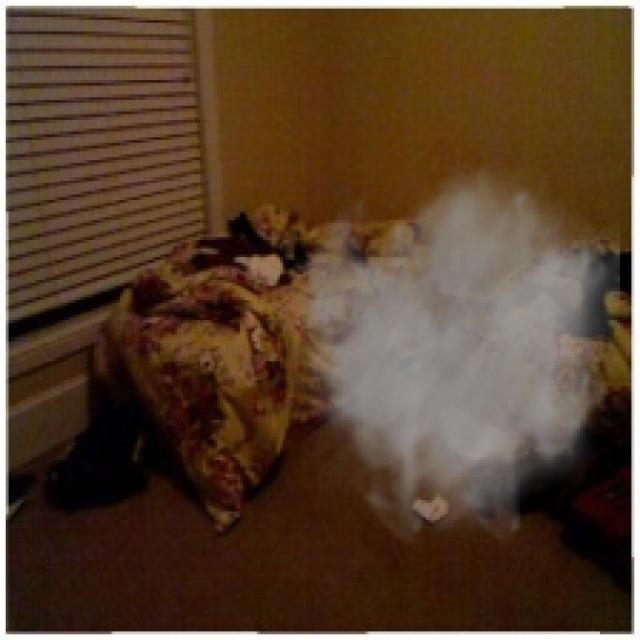Smoke: (271, 157, 620, 549)
